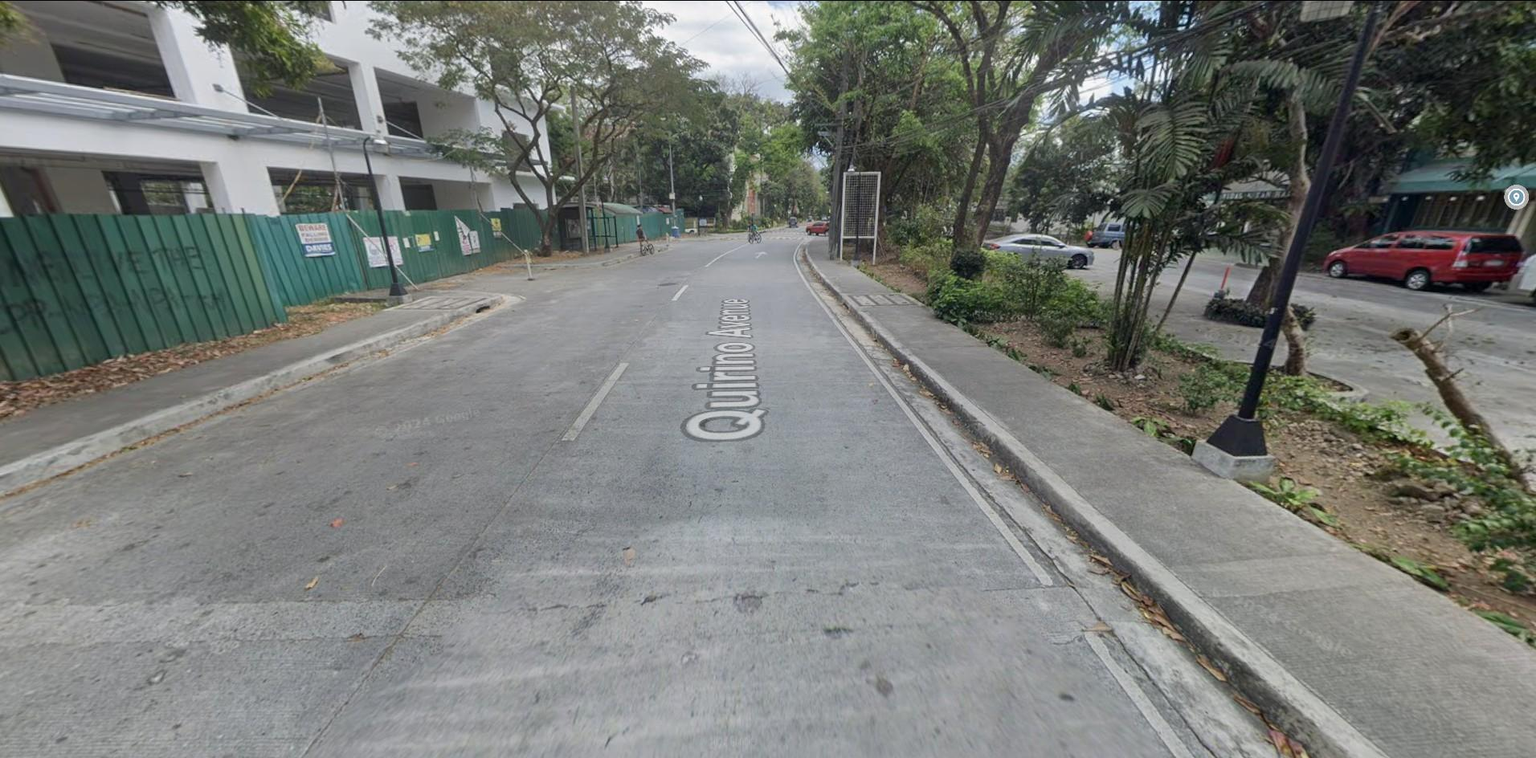cyclist: (636, 224, 655, 256), (748, 223, 762, 244)
